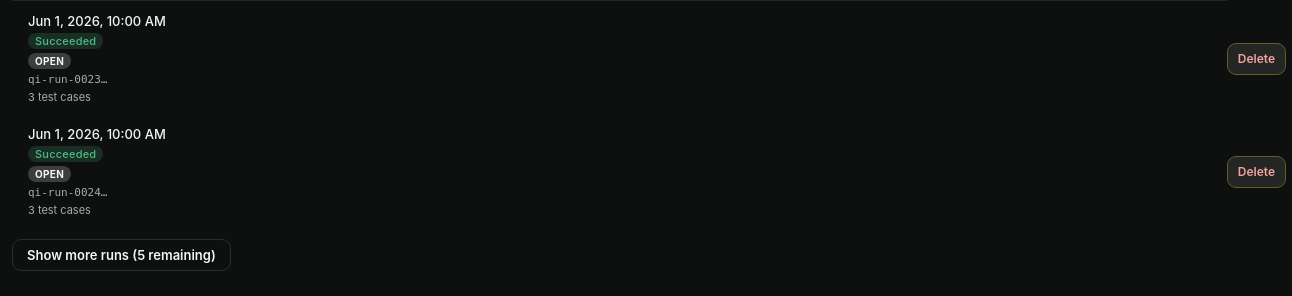
QiHubPanel › paginates the run list and reveals the rest on Show more (#280)
This screenshot has width=1292, height=296.
(page scrolled)
What coordinates should you click on to do the following:
click the button "Show more runs (5 remaining)"
I would click on:
 (121, 255)
Its box is [12,239,231,271].
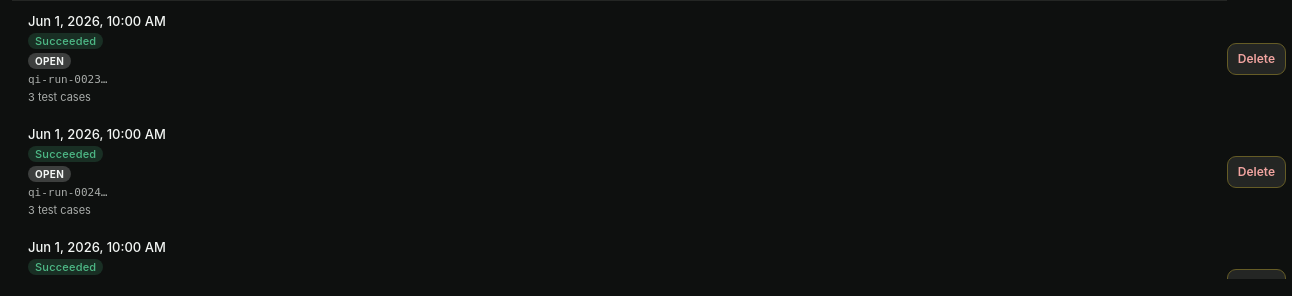
Result: the button "Show more runs" is gone
